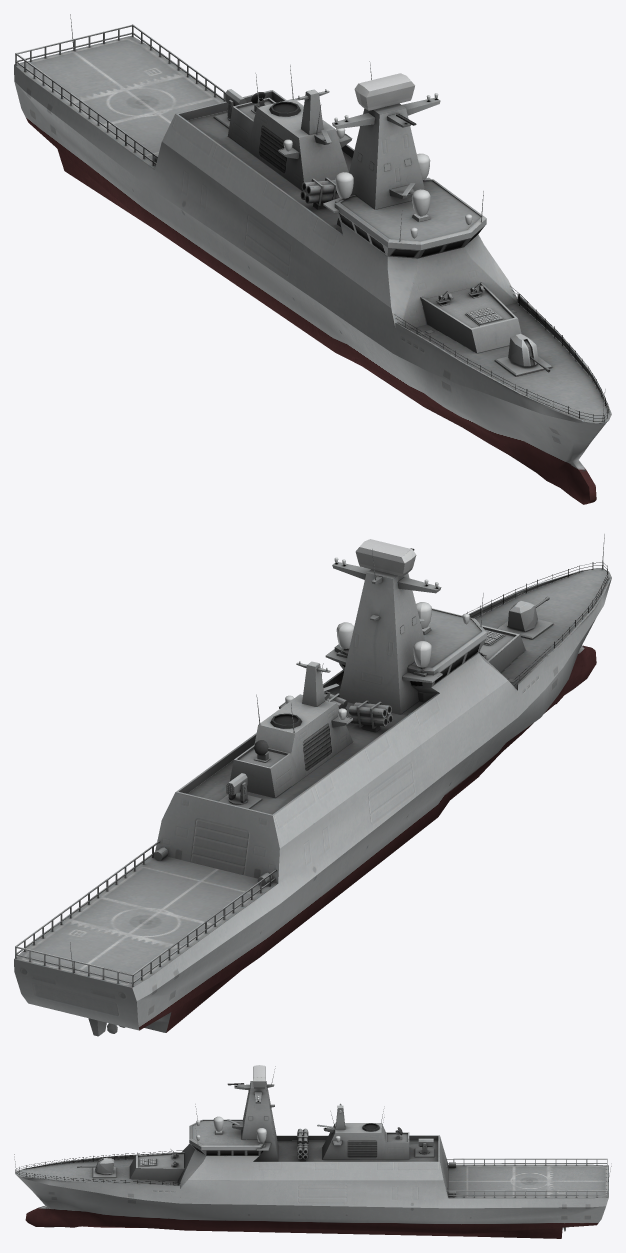
Rendered from gawron-corvette.glb.
The picture shows the model from 3 angles, top to bottom: view 1: azimuth 30°, elevation 25°; view 2: azimuth 150°, elevation 25°; view 3: azimuth 270°, elevation 25°; orthographic projection. The views are drawn at different scales.
Parts seen in each view (by area): view 1: Object_2; view 2: Object_2; view 3: Object_2.
Part boxes in pixels (bbox=[...]): Object_2: bbox=[14, 14, 611, 504]; Object_2: bbox=[14, 534, 611, 1036]; Object_2: bbox=[14, 1065, 611, 1238].
Bounding box in the file's own units: 0.404 × 0.8413 × 2.76.
Materials: 1 (1 with a texture image).
